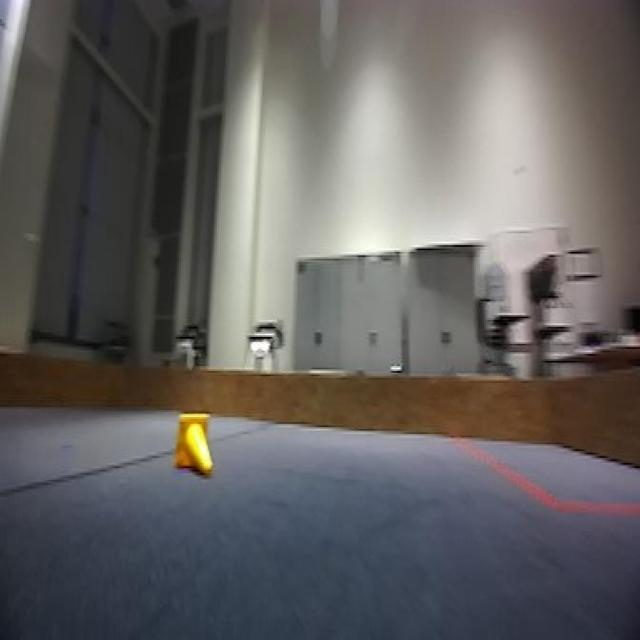frc_cone: (172, 409, 216, 480)
